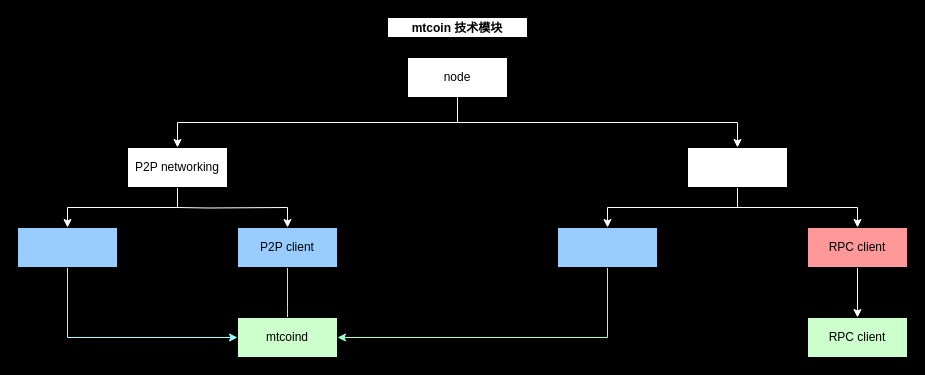
The diagram is 925 pixels wide and 375 high, and some of its shapes have lost their labels. Each missing label, with the centre of its shape:
P2P server: point (67, 247)
RPC: point (737, 167)
RPC server: point (607, 247)
